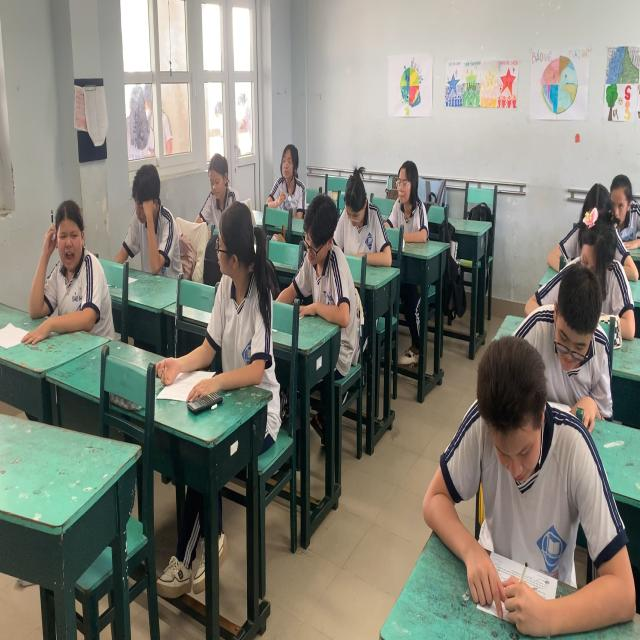cheating: (201, 194, 283, 390), (40, 196, 109, 330)
not_cheating: (426, 345, 600, 623), (531, 266, 610, 416), (296, 188, 350, 324), (115, 162, 179, 274), (578, 212, 634, 333), (334, 162, 392, 264), (384, 155, 432, 242), (267, 142, 314, 228), (606, 171, 640, 251), (198, 145, 238, 208)
